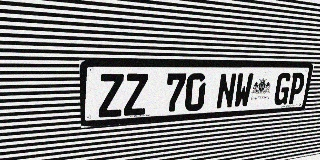0: (184, 73, 207, 112)
7: (163, 73, 187, 113)
G: (273, 73, 292, 105)
N: (215, 73, 237, 109)
P: (287, 73, 306, 104)
W: (233, 73, 254, 108)
Z: (98, 74, 124, 118), (124, 73, 148, 116)
